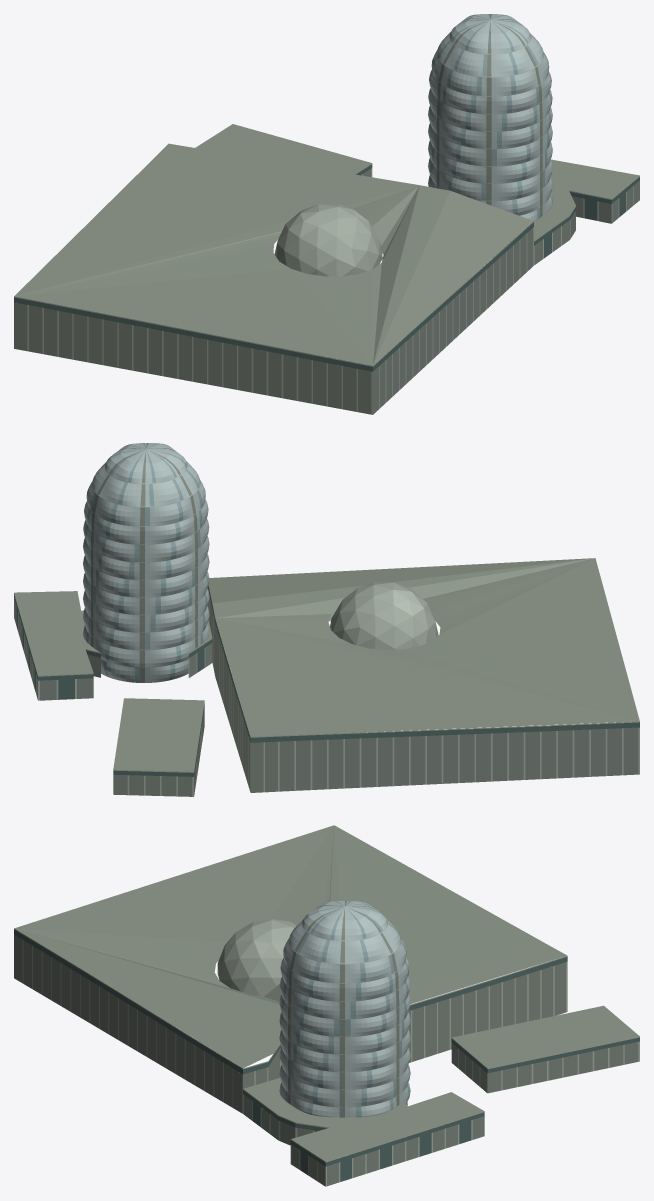
The model's file is national-space-centre-near.glb.
3 views of the same model, one above another, from view 1: azimuth 30°, elevation 25°; view 2: azimuth 150°, elevation 25°; view 3: azimuth 270°, elevation 25° (orthographic).
Parts seen in each view (by area): view 1: national-space-centre-0-roof, national-space-centre-0-metal, national-space-centre-0-etfe, national-space-centre-0-frame, national-space-centre-0-dome, national-space-centre-0-glass, national-space-centre-0-etfeShade; view 2: national-space-centre-0-roof, national-space-centre-0-metal, national-space-centre-0-etfe, national-space-centre-0-frame, national-space-centre-0-dome, national-space-centre-0-glass, national-space-centre-0-etfeShade; view 3: national-space-centre-0-roof, national-space-centre-0-metal, national-space-centre-0-etfe, national-space-centre-0-frame, national-space-centre-0-glass, national-space-centre-0-dome, national-space-centre-0-etfeShade.
Part boxes in pixels (x1=…): national-space-centre-0-roof: x1=14, y1=124, x2=639, y2=365; national-space-centre-0-metal: x1=14, y1=14, x2=639, y2=414; national-space-centre-0-etfe: x1=428, y1=14, x2=552, y2=221; national-space-centre-0-frame: x1=14, y1=35, x2=639, y2=414; national-space-centre-0-dome: x1=274, y1=204, x2=382, y2=276; national-space-centre-0-glass: x1=14, y1=164, x2=639, y2=371; national-space-centre-0-etfeShade: x1=428, y1=14, x2=552, y2=219; national-space-centre-0-roof: x1=14, y1=558, x2=639, y2=771; national-space-centre-0-metal: x1=14, y1=443, x2=638, y2=796; national-space-centre-0-etfe: x1=83, y1=443, x2=209, y2=682; national-space-centre-0-frame: x1=14, y1=464, x2=639, y2=796; national-space-centre-0-dome: x1=330, y1=582, x2=438, y2=649; national-space-centre-0-glass: x1=14, y1=586, x2=639, y2=776; national-space-centre-0-etfeShade: x1=83, y1=443, x2=209, y2=682; national-space-centre-0-roof: x1=14, y1=825, x2=639, y2=1161; national-space-centre-0-metal: x1=14, y1=901, x2=638, y2=1186; national-space-centre-0-etfe: x1=279, y1=901, x2=410, y2=1117; national-space-centre-0-frame: x1=14, y1=919, x2=639, y2=1186; national-space-centre-0-glass: x1=14, y1=929, x2=639, y2=1181; national-space-centre-0-dome: x1=217, y1=920, x2=296, y2=996; national-space-centre-0-etfeShade: x1=279, y1=901, x2=410, y2=1117.
Size of the model in its own units: 132 by 42 by 113.
